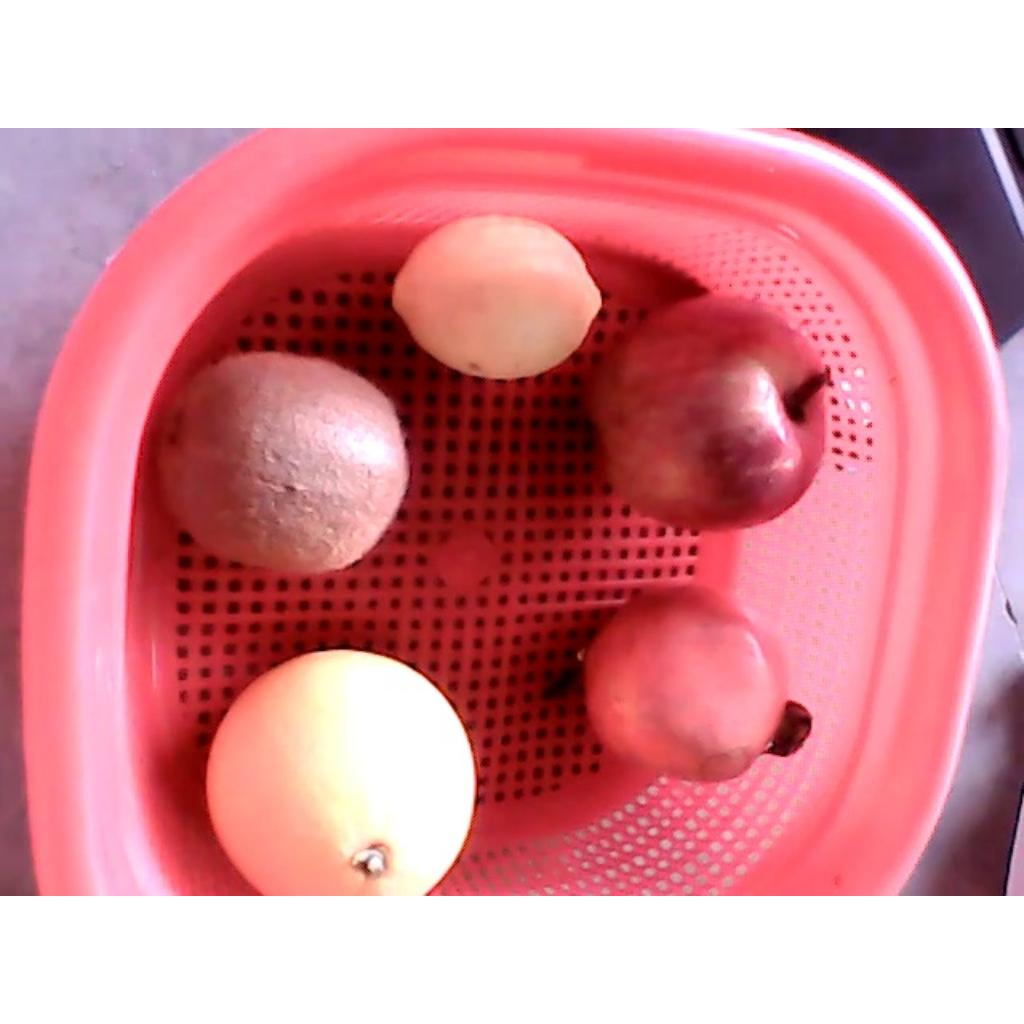apple: (578, 294, 829, 534)
kiwi: (146, 350, 410, 575)
lemon: (391, 213, 604, 383)
orange: (204, 648, 477, 894)
pomegranate: (581, 579, 816, 785)
